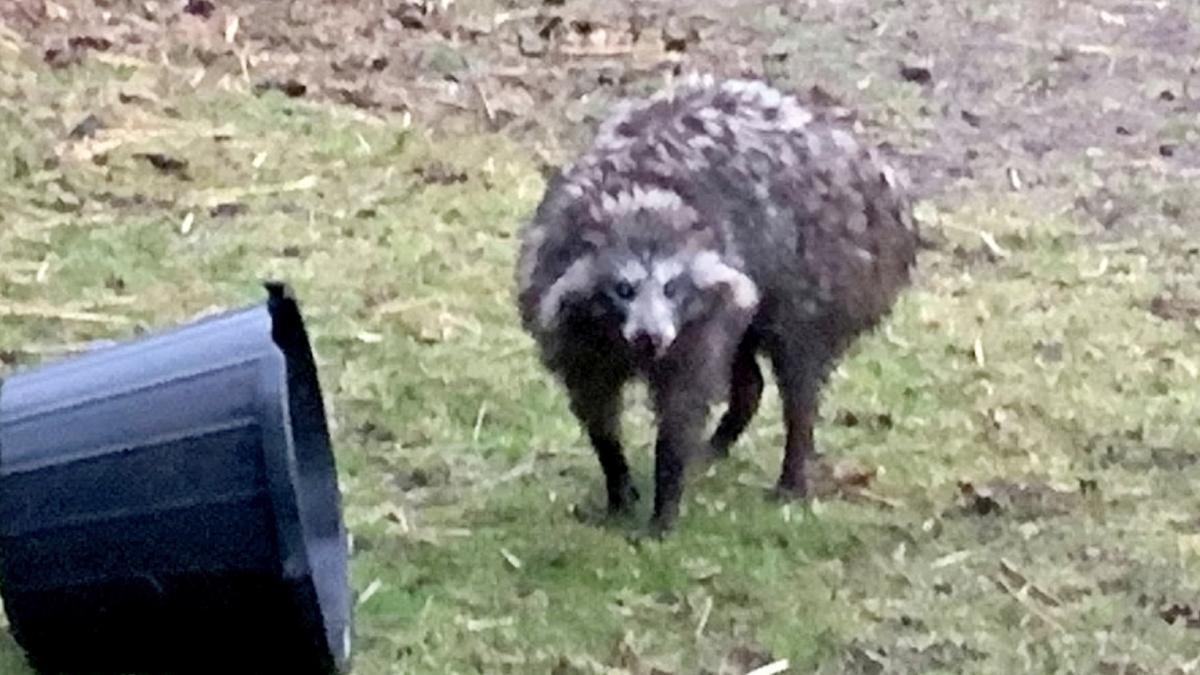raccoon: (515, 79, 923, 536)
